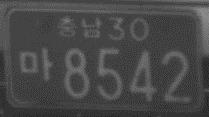0: (128, 16, 149, 41)
2: (161, 50, 192, 103)
3: (106, 16, 125, 41)
4: (130, 49, 156, 102)
5: (95, 47, 123, 100)
8: (63, 47, 89, 99)
마: (18, 47, 53, 81)
충남_O: (57, 15, 102, 39)
